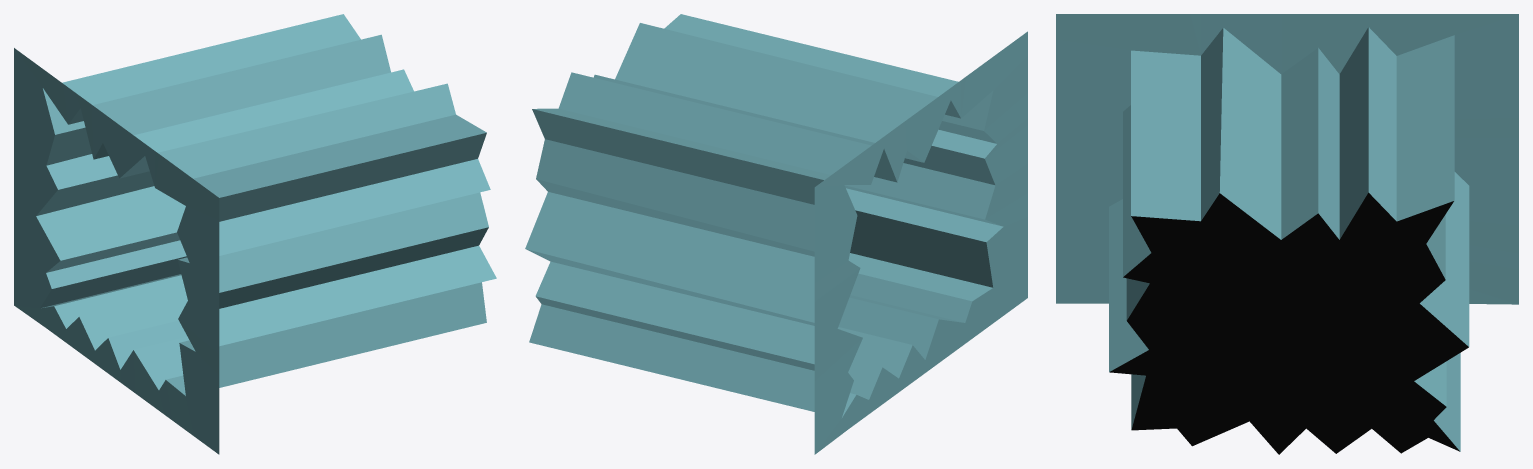
File: Level 2 Shattered wall.fbx
The picture shows the model from 3 angles, left to right: view 1: azimuth 30°, elevation 25°; view 2: azimuth 150°, elevation 25°; view 3: azimuth 270°, elevation 25°; orthographic projection. The views are drawn at different scales.
Visible parts, largest first — view 1: polySurface3; view 2: polySurface3; view 3: polySurface3.
Part boxes in pixels (x1,y1,x2,y2): polySurface3: (14, 14, 496, 454); polySurface3: (525, 14, 1027, 454); polySurface3: (1056, 14, 1518, 454).
Size of the model in its own units: 371 by 303 by 438.
